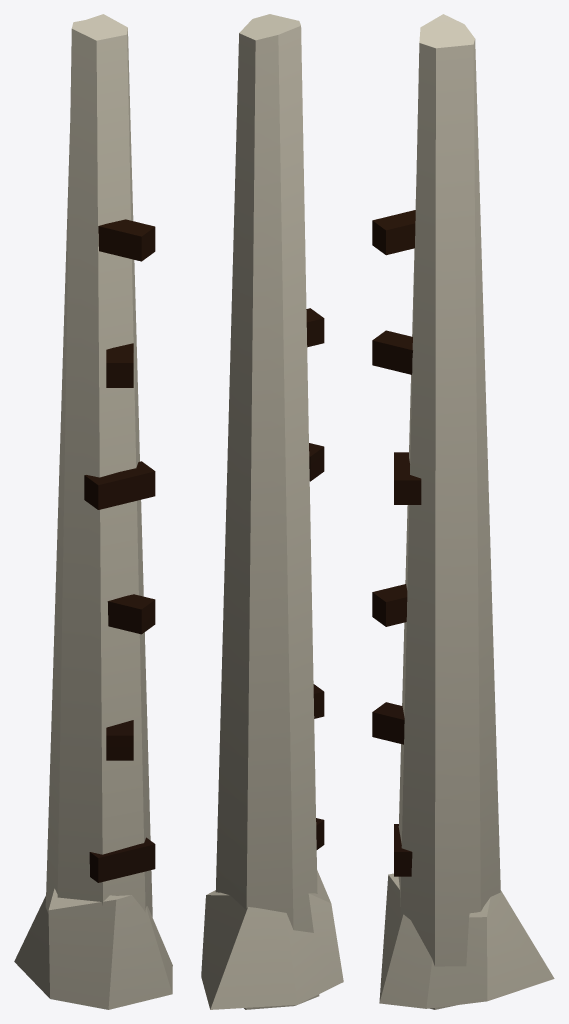
The model's file is birchT.glb.
3 views of the same model, side by side, from view 1: azimuth 30°, elevation 25°; view 2: azimuth 150°, elevation 25°; view 3: azimuth 270°, elevation 25° (orthographic).
Visible parts, largest first — view 1: birchT; view 2: birchT; view 3: birchT.
Boxes of the visible parts, x1=… form: birchT: x1=14, y1=14, x2=172, y2=1009; birchT: x1=201, y1=14, x2=343, y2=1009; birchT: x1=372, y1=14, x2=554, y2=1009.
Size of the model in its own units: 0.1569 by 1.16 by 0.1994.
